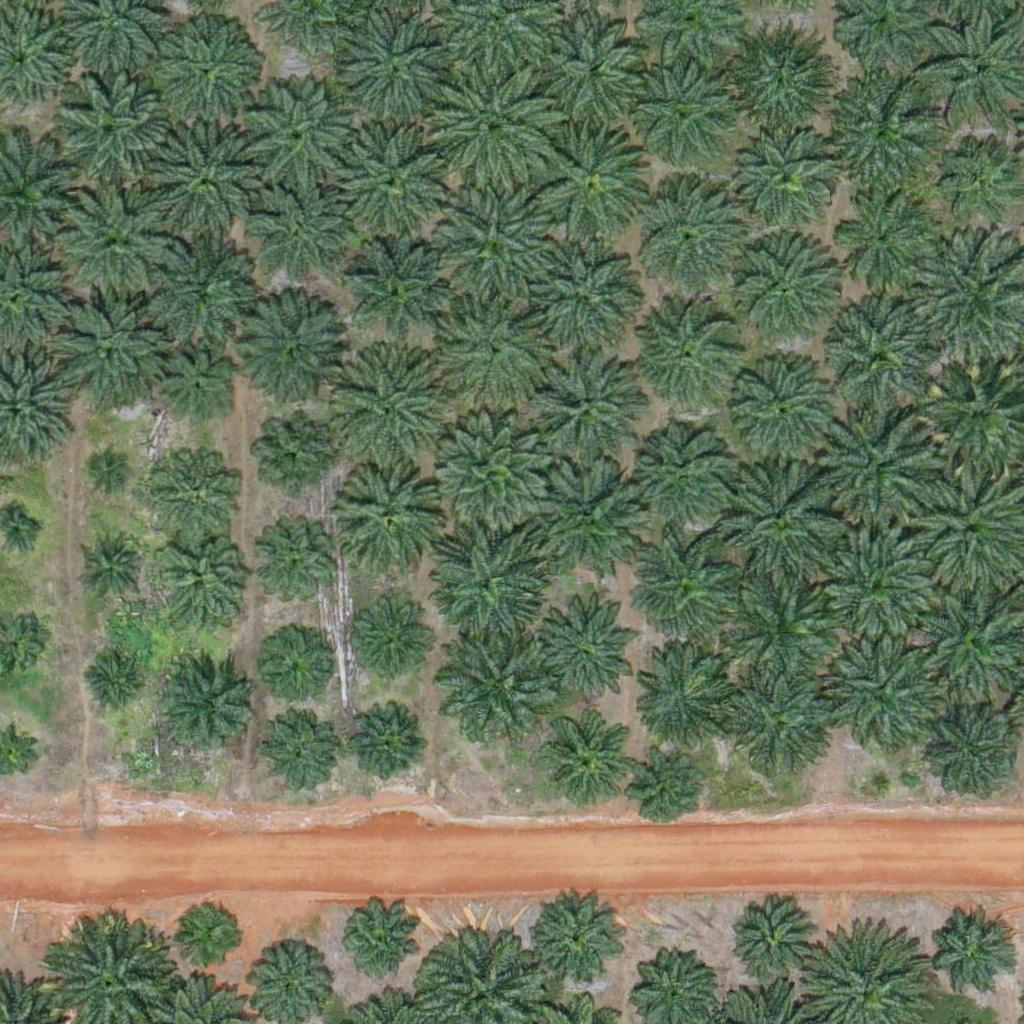Kelapa_Sawit: (817, 305, 942, 431), (430, 59, 555, 184), (724, 672, 837, 785), (726, 569, 839, 682), (730, 457, 843, 570), (629, 178, 742, 291), (628, 523, 741, 636), (538, 128, 651, 241), (528, 233, 641, 346), (525, 351, 638, 464), (438, 625, 551, 738), (328, 457, 441, 570), (231, 297, 344, 410), (149, 125, 262, 238), (135, 226, 248, 339), (624, 55, 737, 168), (538, 14, 651, 127), (246, 77, 359, 190), (49, 286, 161, 400), (819, 69, 931, 183), (724, 20, 836, 134), (824, 410, 936, 523), (823, 525, 935, 638), (826, 640, 938, 753), (731, 341, 843, 454), (727, 228, 839, 341), (534, 455, 646, 568), (530, 601, 642, 714), (437, 182, 549, 295), (435, 291, 547, 404), (433, 410, 545, 523), (429, 525, 541, 638), (331, 347, 443, 460), (60, 184, 172, 297), (336, 8, 448, 121), (335, 120, 447, 233), (55, 74, 167, 187), (528, 891, 628, 992), (642, 297, 742, 398), (633, 421, 733, 522), (634, 643, 734, 744), (345, 244, 445, 345), (154, 656, 254, 757), (157, 22, 257, 123), (833, 186, 933, 286), (736, 127, 836, 227), (538, 713, 626, 801), (149, 447, 237, 535), (157, 541, 245, 629), (336, 899, 423, 987), (343, 594, 430, 682), (254, 191, 341, 279), (257, 417, 332, 493), (928, 921, 1003, 997), (735, 908, 810, 984), (940, 136, 1015, 212), (351, 710, 426, 786), (259, 532, 334, 608), (262, 714, 337, 790), (155, 350, 230, 426), (259, 637, 322, 700), (83, 655, 146, 718), (180, 902, 243, 965), (633, 754, 696, 817), (86, 540, 136, 590), (94, 451, 132, 489)
